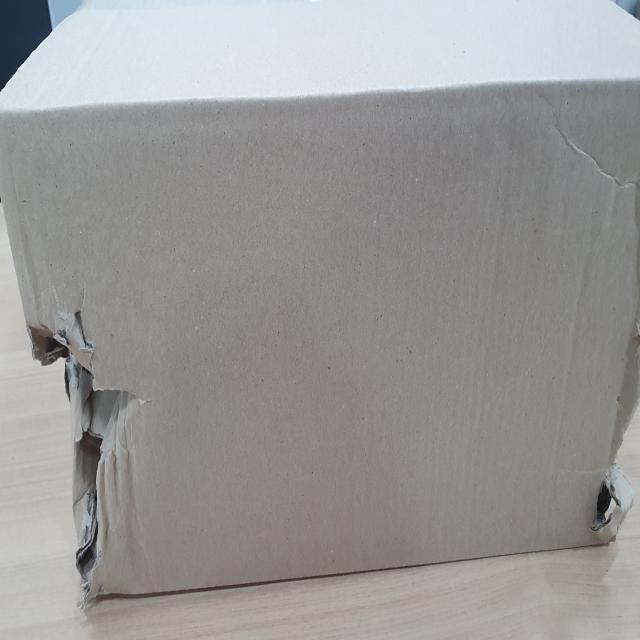hole: (29, 311, 139, 599), (595, 469, 619, 551)
